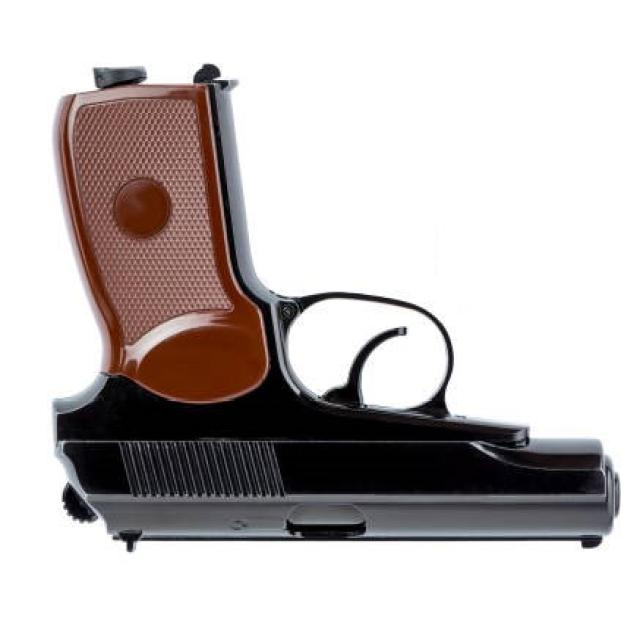pistol: (39, 47, 630, 565)
